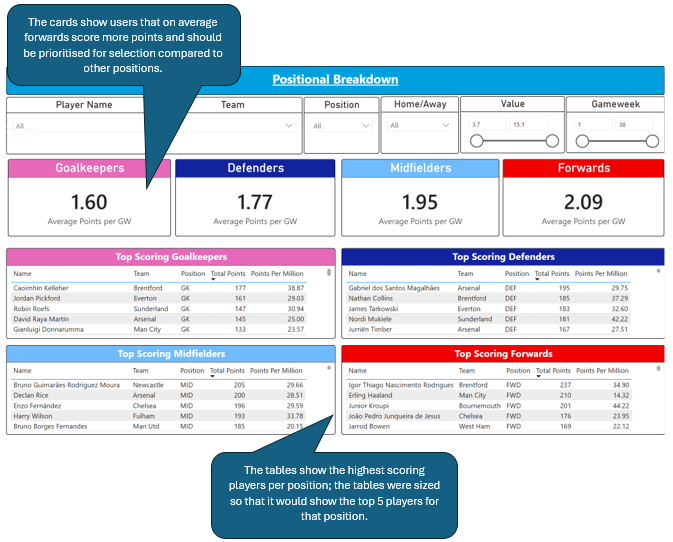

What the dashboard file says about the page in this screenshot:
{"tool":"powerbi","page":{"name":"Positional Breakdown","canvas":[1280,720],"ordinal":4},"visuals":[{"type":"group","id":"g1","title":"Group 1","box":[0,58.2,1280,112.9],"z":0},{"type":"textbox","box":[0,0,1280,55.6],"z":1000},{"type":"slicer","title":"Team","fields":{"Values":["FPL_predicted_point.team"]},"box":[303.9,60,271.6,111.1],"z":1000,"group":"g1"},{"type":"slicer","title":"Position","fields":{"Values":["FPL_predicted_point.position","FPL_predicted_point.name"]},"box":[578.2,60,147,110.3],"z":2000,"group":"g1"},{"type":"tableEx","title":"Top Scoring Defenders","fields":{"Values":["FPL_predicted_point.Name","FPL_predicted_point.Team","FPL_predicted_point.Position","Sum(FPL_predicted_point.Actual/Predicted Points)","Sum(FPL_predicted_point.Points Per Million)"]},"box":[651.4,353.6,628.6,175.8],"z":2000},{"type":"slicer","title":"Gameweek","fields":{"Values":["FPL_predicted_point.GW"]},"box":[1088.2,59.1,191.8,110.3],"z":3000,"group":"g1"},{"type":"tableEx","title":"Top Scoring Goalkeepers","fields":{"Values":["FPL_predicted_point.Name","FPL_predicted_point.Team","FPL_predicted_point.Position","Sum(FPL_predicted_point.Actual/Predicted Points)","Sum(FPL_predicted_point.Points Per Million)"]},"box":[0,353.6,640,175.8],"z":3000},{"type":"slicer","title":"Value","fields":{"Values":["FPL_predicted_point.value"]},"box":[882.9,58.2,202.6,111.1],"z":4000,"group":"g1"},{"type":"tableEx","title":"Top Scoring Midfielders","fields":{"Values":["FPL_predicted_point.Name","FPL_predicted_point.Team","FPL_predicted_point.Position","Sum(FPL_predicted_point.Actual/Predicted Points)","Sum(FPL_predicted_point.Points Per Million)"]},"box":[0,541.8,640,173.7],"z":4000},{"type":"slicer","title":"Home/Away","fields":{"Values":["FPL_predicted_point.Home/Away"]},"box":[727.8,59.1,152.4,111.1],"z":5000,"group":"g1"},{"type":"tableEx","title":"Top Scoring Forwards ","fields":{"Values":["FPL_predicted_point.Name","FPL_predicted_point.Team","FPL_predicted_point.Position","Sum(FPL_predicted_point.Actual/Predicted Points)","Sum(FPL_predicted_point.Points Per Million)"]},"box":[651.4,541.8,628.6,173.7],"z":5000},{"type":"slicer","title":"Player Name","fields":{"Values":["FPL_predicted_point.name"]},"box":[0,60,301.2,111.1],"z":6000,"group":"g1"},{"type":"cardVisual","title":"Defenders","fields":{"Data":["Avg(FPL_predicted_point.Actual/Predicted Points)"]},"box":[328.8,180.9,311.2,149.9],"z":6000},{"type":"cardVisual","title":"Goalkeepers","fields":{"Data":["Avg(FPL_predicted_point.Actual/Predicted Points)"]},"box":[3.1,180.9,317.4,149.9],"z":7000},{"type":"cardVisual","title":"Midfielders","fields":{"Data":["Avg(FPL_predicted_point.Actual/Predicted Points)"]},"box":[651.4,180.9,307.1,149.9],"z":8000},{"type":"cardVisual","title":"Forwards","fields":{"Data":["Avg(FPL_predicted_point.Actual/Predicted Points)"]},"box":[965.7,180.9,314.3,149.9],"z":9000}]}

Visuals, with their boxes on the page's 1280x720 design canvas (x1, y1, x2, y2). These are canvas units, not pixel positions in the 673x542 screenshot, which may show the page scaled, cropped or inside an application window:
"Group 1" group: [0,58,1280,171]
textbox: [0,0,1280,56]
"Team" slicer: [304,60,576,171]
"Position" slicer: [578,60,725,170]
"Top Scoring Defenders" tableEx: [651,354,1280,529]
"Gameweek" slicer: [1088,59,1280,169]
"Top Scoring Goalkeepers" tableEx: [0,354,640,529]
"Value" slicer: [883,58,1086,169]
"Top Scoring Midfielders" tableEx: [0,542,640,716]
"Home/Away" slicer: [728,59,880,170]
"Top Scoring Forwards " tableEx: [651,542,1280,716]
"Player Name" slicer: [0,60,301,171]
"Defenders" cardVisual: [329,181,640,331]
"Goalkeepers" cardVisual: [3,181,320,331]
"Midfielders" cardVisual: [651,181,958,331]
"Forwards" cardVisual: [966,181,1280,331]
